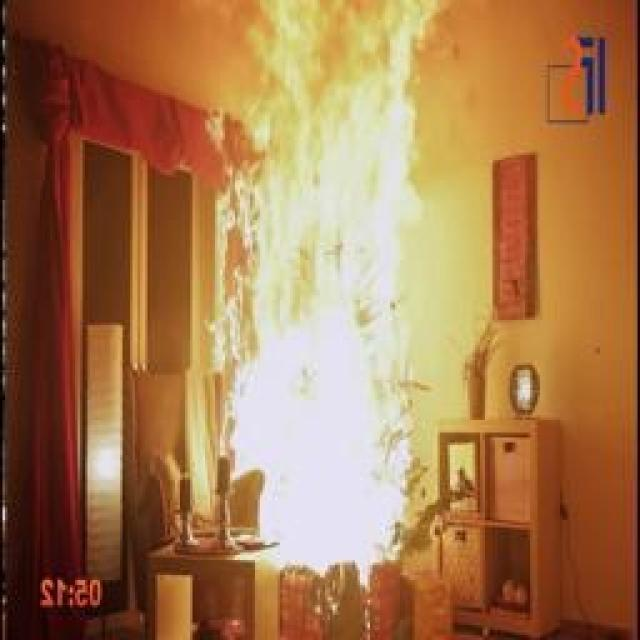fire: (184, 1, 476, 584)
